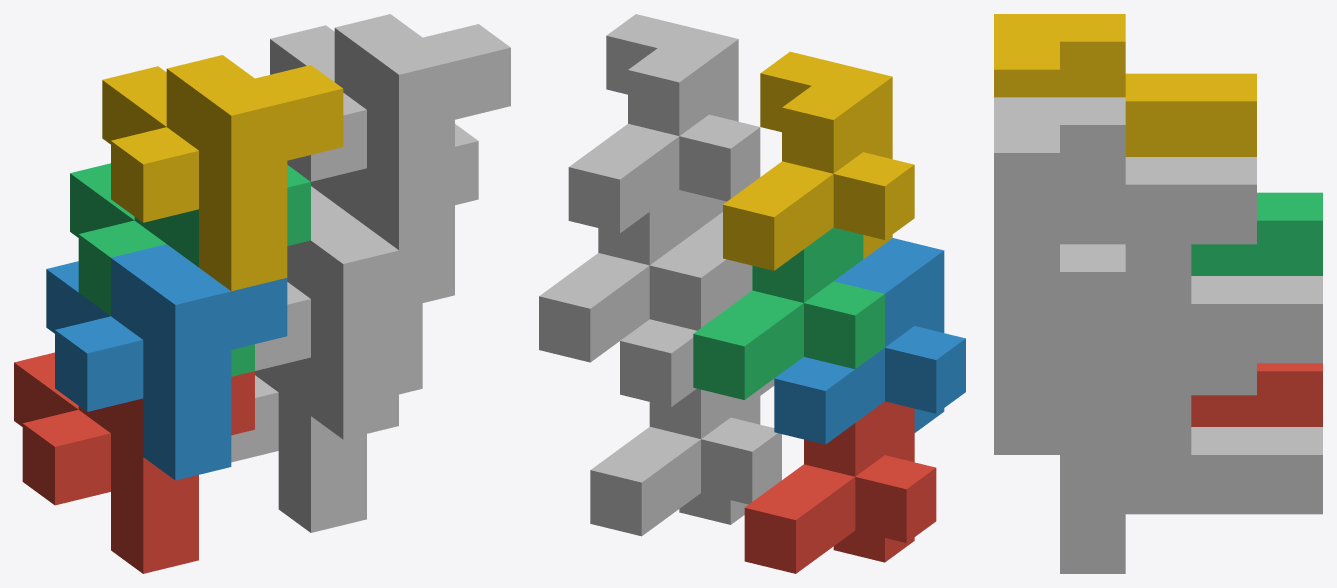
Rendered from tiling.obj.
3 renders of one model, left to right at view 1: azimuth 30°, elevation 25°; view 2: azimuth 150°, elevation 25°; view 3: azimuth 270°, elevation 25°, orthographic. The views are drawn at different scales.
Parts seen in each view (by area): view 1: copy_1_domain_4, copy_1_domain_2, copy_1_domain_8, copy_1_domain_6, copy_1_domain_1, copy_1_domain_5, copy_1_domain_3, copy_1_domain_7; view 2: copy_1_domain_4, copy_1_domain_8, copy_1_domain_1, copy_1_domain_2, copy_1_domain_5, copy_1_domain_3, copy_1_domain_7, copy_1_domain_6; view 3: copy_1_domain_8, copy_1_domain_7, copy_1_domain_5, copy_1_domain_4, copy_1_domain_6, copy_1_domain_3, copy_1_domain_1.
Boxes of the visible parts, x1=… form: copy_1_domain_4: x1=102, y1=55, x2=343, y2=291; copy_1_domain_2: x1=46, y1=244, x2=287, y2=480; copy_1_domain_8: x1=270, y1=14, x2=510, y2=250; copy_1_domain_6: x1=255, y1=203, x2=454, y2=439; copy_1_domain_1: x1=14, y1=352, x2=254, y2=573; copy_1_domain_5: x1=231, y1=330, x2=422, y2=532; copy_1_domain_3: x1=70, y1=163, x2=310, y2=376; copy_1_domain_7: x1=311, y1=124, x2=478, y2=335; copy_1_domain_4: x1=723, y1=51, x2=914, y2=270; copy_1_domain_8: x1=568, y1=14, x2=760, y2=233; copy_1_domain_1: x1=744, y1=401, x2=936, y2=573; copy_1_domain_2: x1=774, y1=238, x2=965, y2=444; copy_1_domain_5: x1=590, y1=388, x2=781, y2=536; copy_1_domain_3: x1=693, y1=227, x2=884, y2=399; copy_1_domain_7: x1=539, y1=190, x2=730, y2=362; copy_1_domain_6: x1=620, y1=212, x2=774, y2=406; copy_1_domain_8: x1=994, y1=97, x2=1256, y2=303; copy_1_domain_7: x1=1060, y1=244, x2=1322, y2=422; copy_1_domain_5: x1=1060, y1=395, x2=1322, y2=573; copy_1_domain_4: x1=994, y1=14, x2=1256, y2=156; copy_1_domain_6: x1=994, y1=304, x2=1256, y2=454; copy_1_domain_3: x1=1191, y1=192, x2=1322, y2=275; copy_1_domain_1: x1=1191, y1=363, x2=1322, y2=426.
Size of the model in its own units: 7 by 8 by 5.
